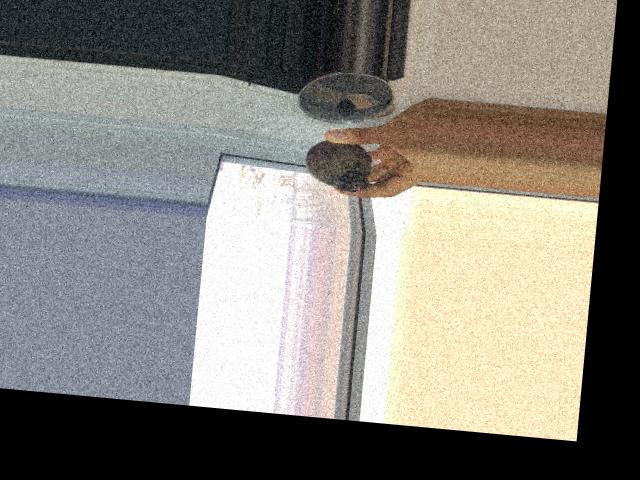beet: (302, 137, 392, 195)
